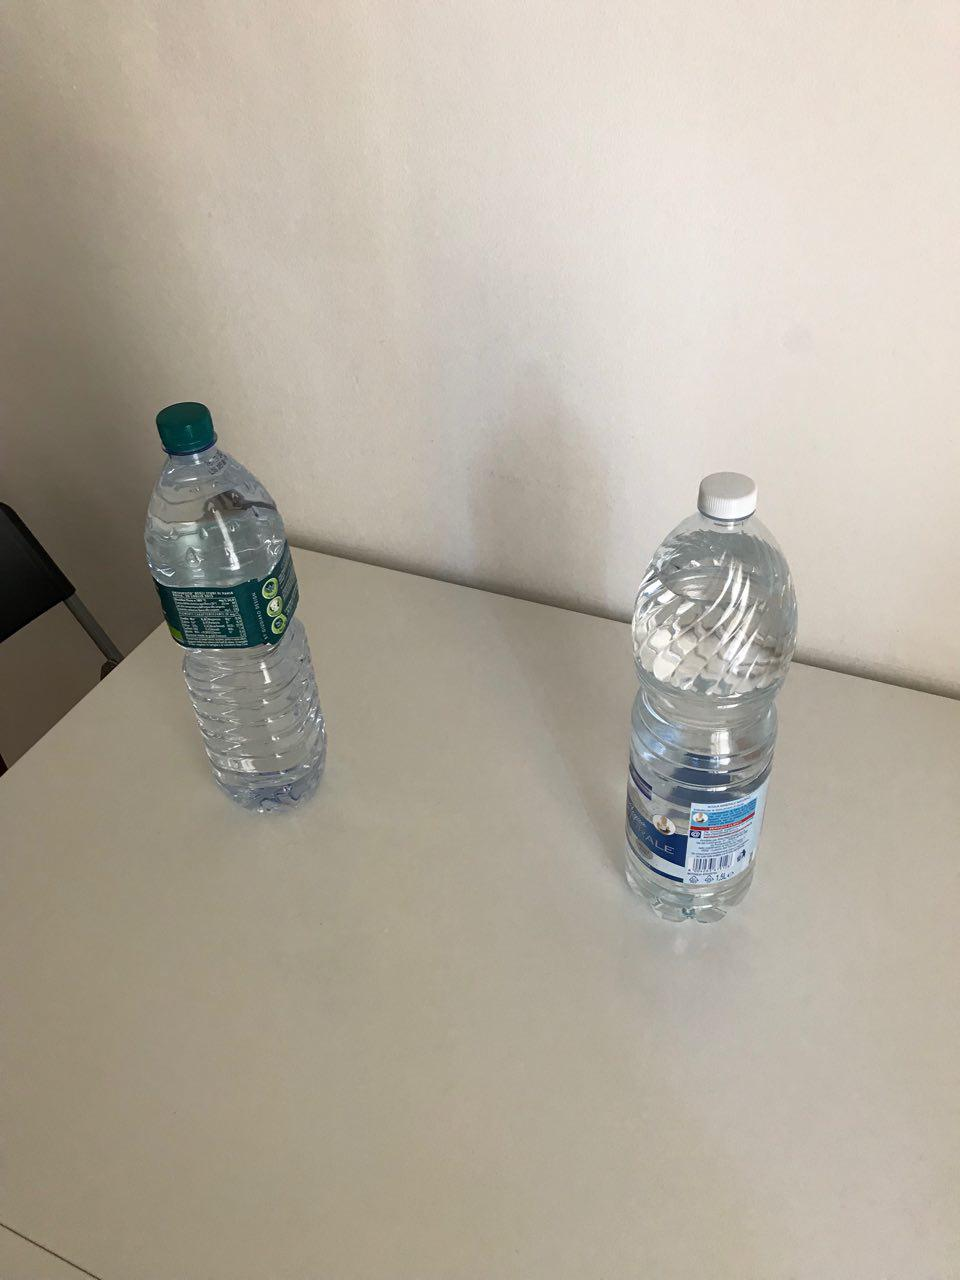san_bernardo: (142, 401, 330, 816)
